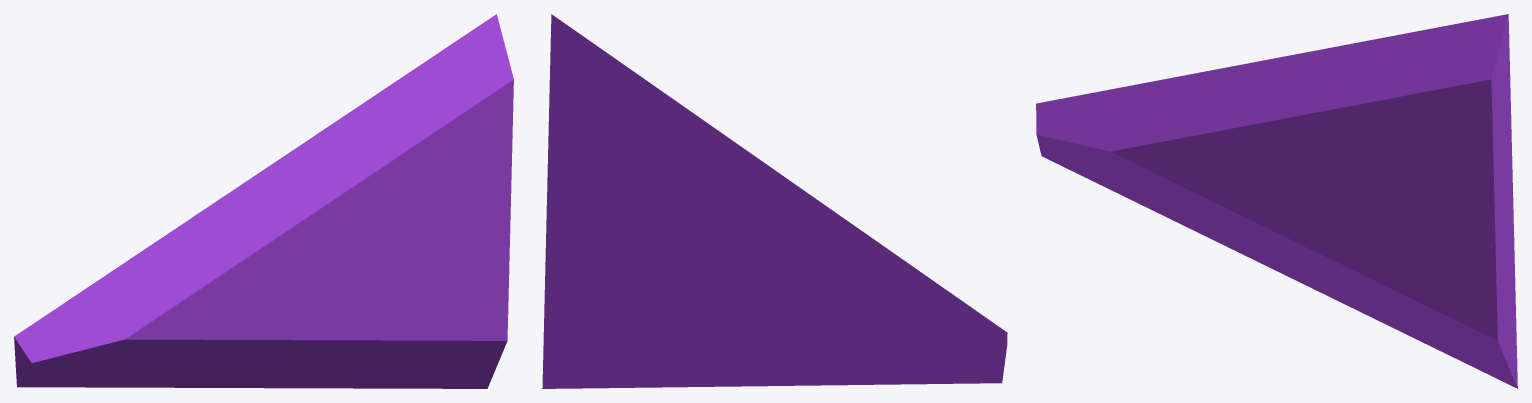
File: Window_47_3_chunks.fbx
The picture shows the model from 3 angles, left to right: view 1: azimuth 30°, elevation 25°; view 2: azimuth 150°, elevation 25°; view 3: azimuth 330°, elevation 25°; orthographic projection. The views are drawn at different scales.
Parts seen in each view (by area): view 1: Window_47_3_0; view 2: Window_47_3_0; view 3: Window_47_3_0.
Part boxes in pixels (x1,y1,x2,y2): Window_47_3_0: [14, 14, 513, 388]; Window_47_3_0: [542, 14, 1007, 388]; Window_47_3_0: [1036, 14, 1517, 388].
Bounding box in the file's own units: 406 × 310 × 38.91.
